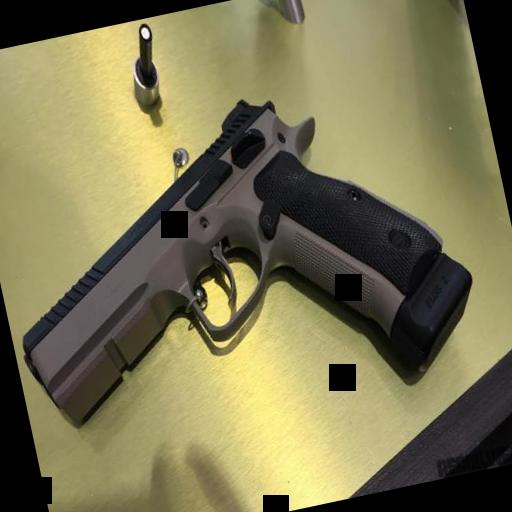Handgun: (0, 56, 478, 460)
